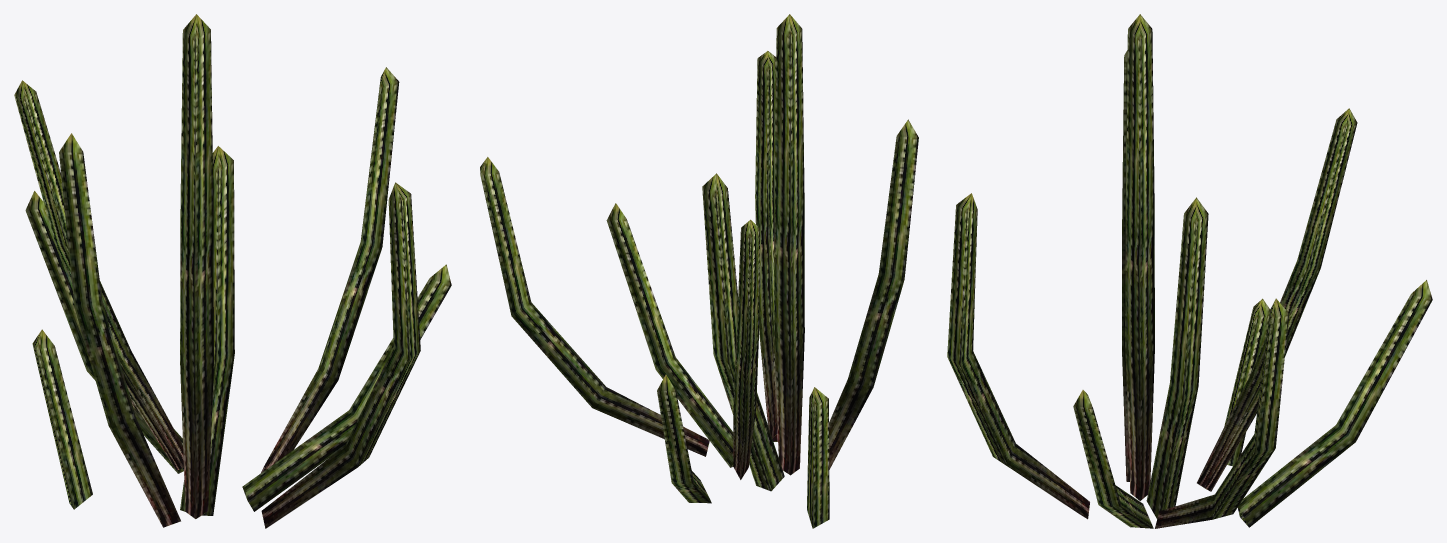
File: ADDON_CANYONPLANT_CACTUSBIG_01_165P.glb
3 views of the same model, side by side, from view 1: azimuth 30°, elevation 25°; view 2: azimuth 150°, elevation 25°; view 3: azimuth 270°, elevation 25° (orthographic). The views are drawn at different scales.
Parts seen in each view (by area): view 1: Mesh; view 2: Mesh; view 3: Mesh.
Boxes of the visible parts, left/top/right/bottom form: Mesh: left=14, top=14, right=451, bottom=528; Mesh: left=480, top=14, right=918, bottom=528; Mesh: left=947, top=14, right=1432, bottom=528.
Bounding box in the file's own units: 2.14 × 2.57 × 2.28.
1 material, 1 textured.
